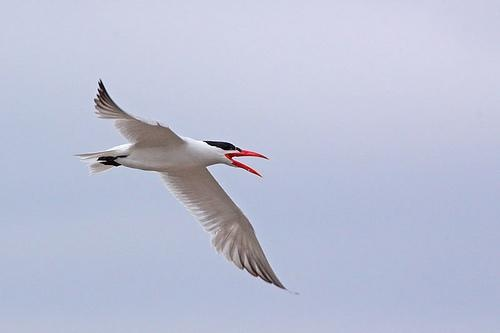bird: (78, 72, 300, 295)
